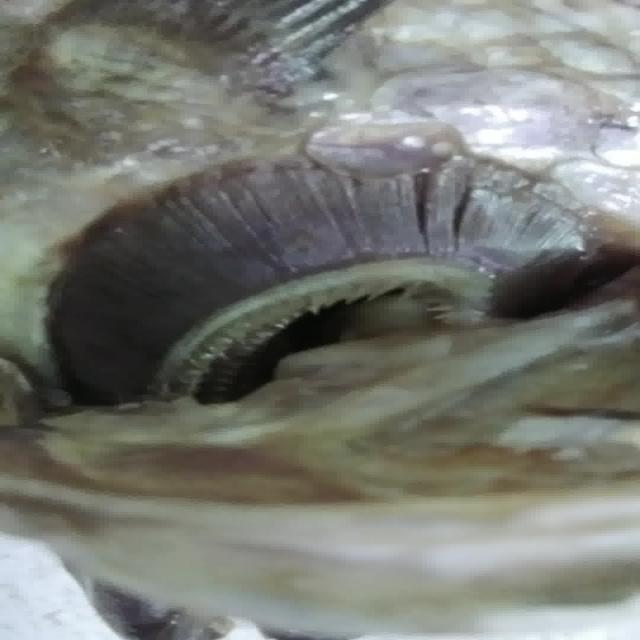Non-Fresh: (41, 143, 606, 391)
